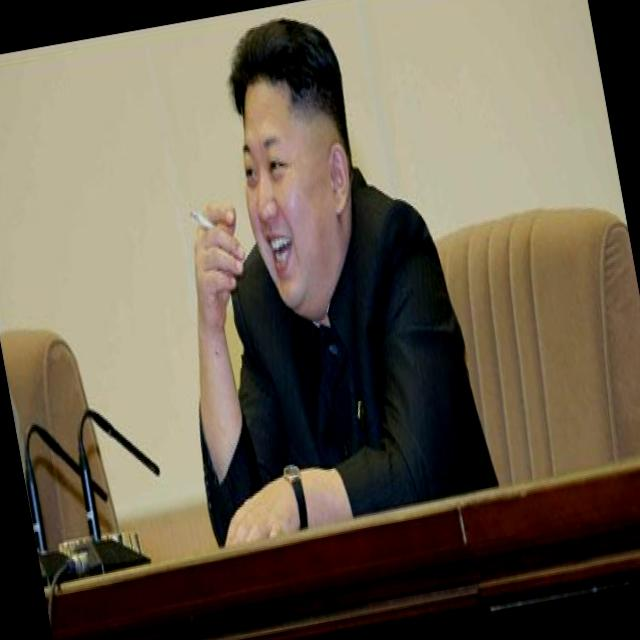smoke: (185, 200, 217, 238)
